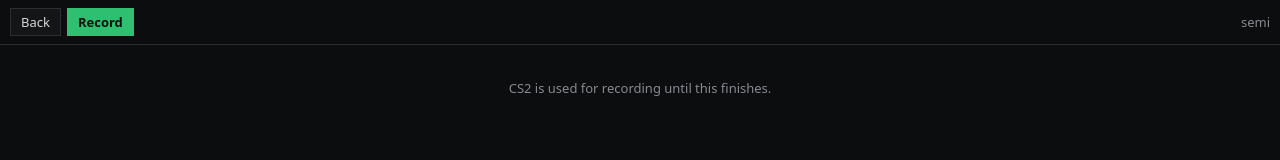
Test: recording shows progress and the stage, then the finished reel
Later steps or results of the test are not shown.
Click the button "Record": (100, 22) [67,8,134,36]
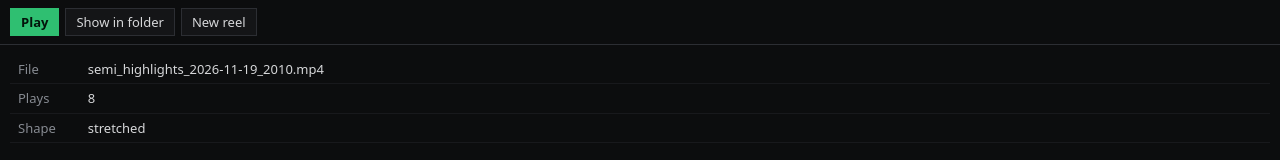
expect the text "semi_highlights_2026-11-19_2010.mp4" is shown: met, box [80,55,1270,84]
expect the cell "8" is shown: met, box [80,84,1270,113]
expect the cell "stretched" is shown: met, box [80,113,1270,142]
